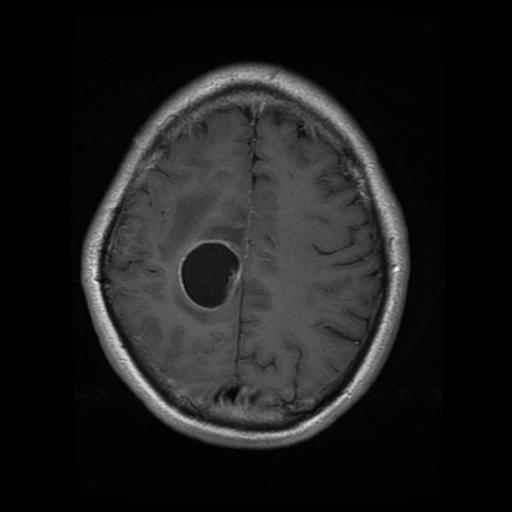Gliomia_tumour: (177, 237, 242, 312)
